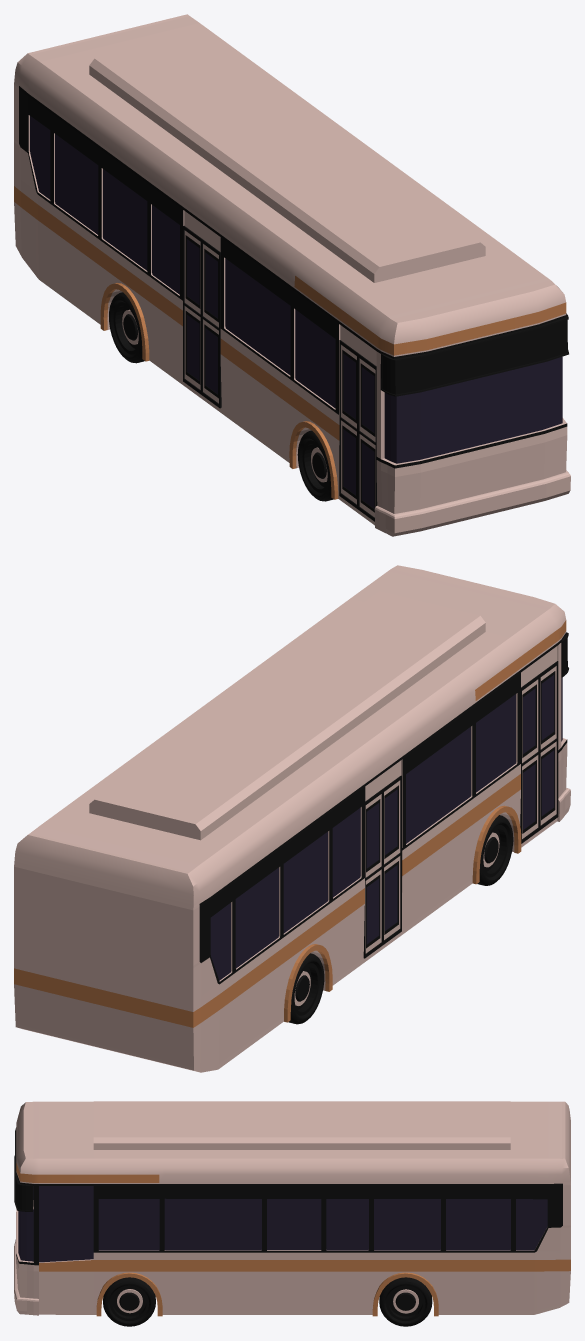
File: Bus inside.fbx
The picture shows the model from 3 angles, top to bottom: view 1: azimuth 30°, elevation 25°; view 2: azimuth 150°, elevation 25°; view 3: azimuth 270°, elevation 25°; orthographic projection. The views are drawn at different scales.
Visible parts, largest first — view 1: bus; view 2: bus; view 3: bus.
Part boxes in pixels (x1,y1,x2,y2): bus: (14, 14, 570, 536); bus: (14, 565, 570, 1072); bus: (14, 1101, 570, 1326).
Bounding box in the file's own units: 621 × 759 × 2174.
